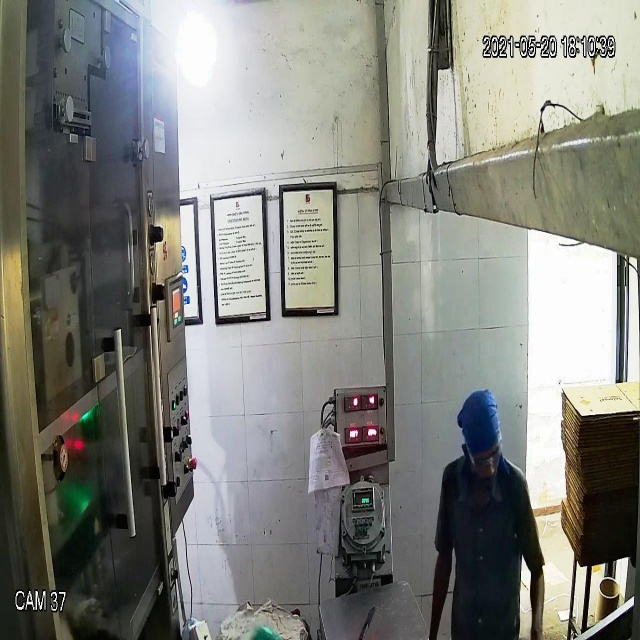Gafas: (460, 440, 504, 472)
